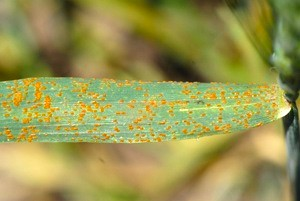Leaf Rust: (9, 70, 245, 155)
